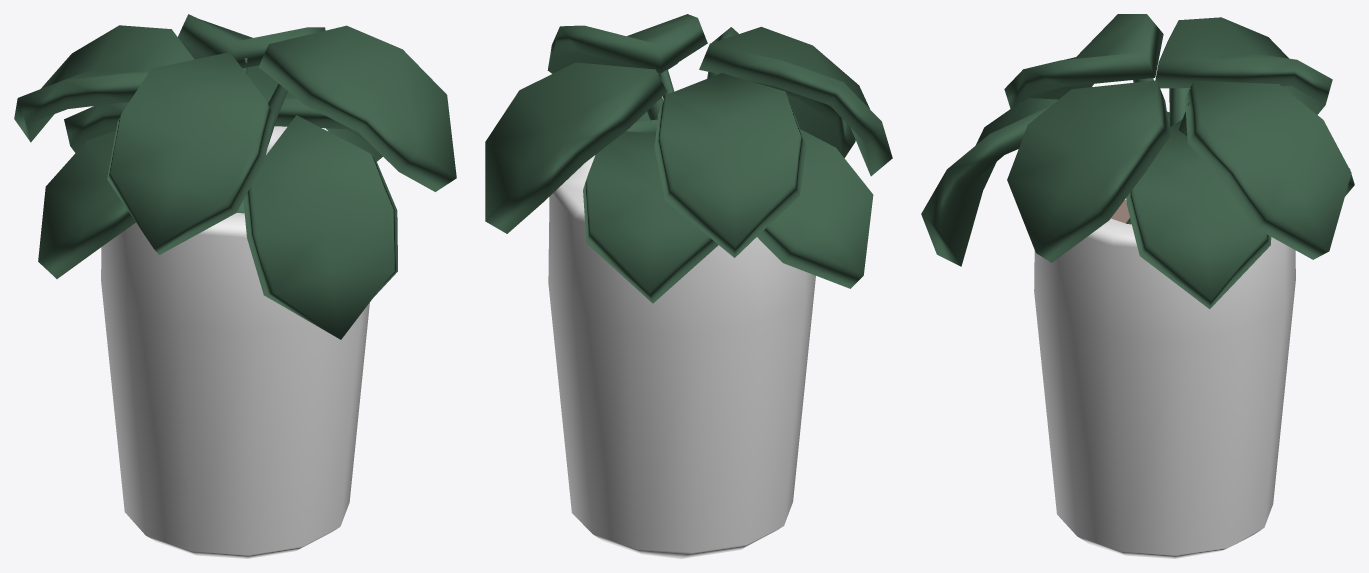
Rendered from flower_017.fbx.
3 renders of one model, left to right at view 1: azimuth 30°, elevation 25°; view 2: azimuth 150°, elevation 25°; view 3: azimuth 270°, elevation 25°, orthographic. The views are drawn at different scales.
Parts seen in each view (by area): view 1: flower_017; view 2: flower_017; view 3: flower_017.
Part boxes in pixels (x1=…): flower_017: x1=14, y1=14, x2=456, y2=558; flower_017: x1=485, y1=14, x2=892, y2=558; flower_017: x1=921, y1=14, x2=1354, y2=558.
Bounding box in the file's own units: 75.36 × 81.11 × 94.88.
